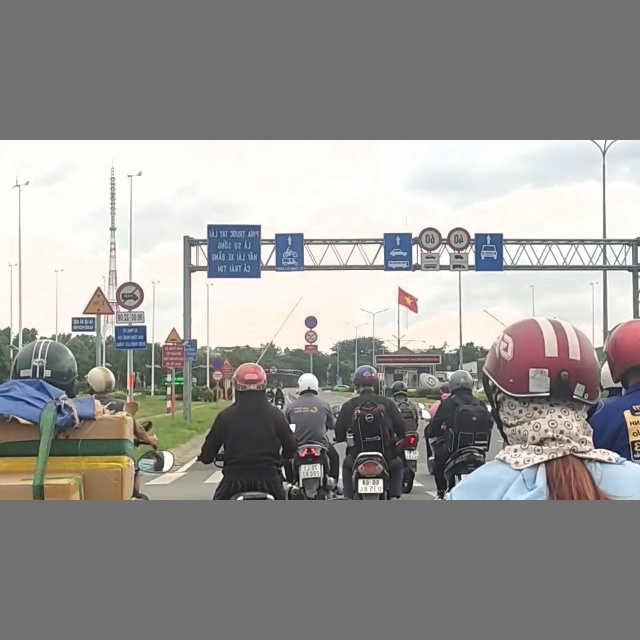Camera: (183, 339, 197, 361)
P.106a*Xe tai: (116, 281, 144, 309)
P.107: (269, 365, 279, 375)
P.111: (305, 330, 317, 344)
P.127*40: (447, 228, 471, 251)
P.127*60: (418, 227, 442, 250)
P.129: (211, 370, 223, 382)
P.130: (304, 315, 317, 329)
P.131a: (211, 355, 223, 369)
W.221b: (163, 327, 182, 344)
W.239b*: (81, 286, 114, 315)
